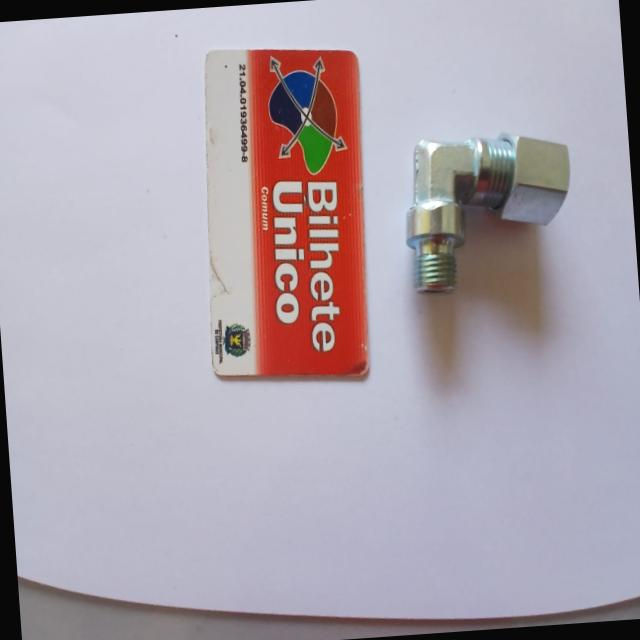cartao: (186, 24, 385, 397)
rosca_externa: (395, 98, 585, 308)
